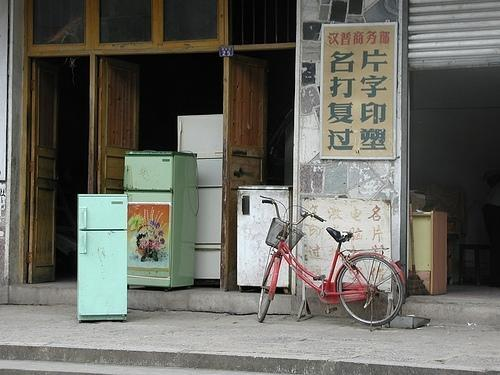bicycle: (258, 198, 403, 330)
